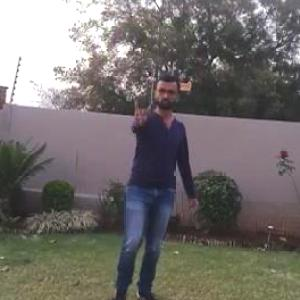takeoff-hand: (129, 89, 159, 127)
